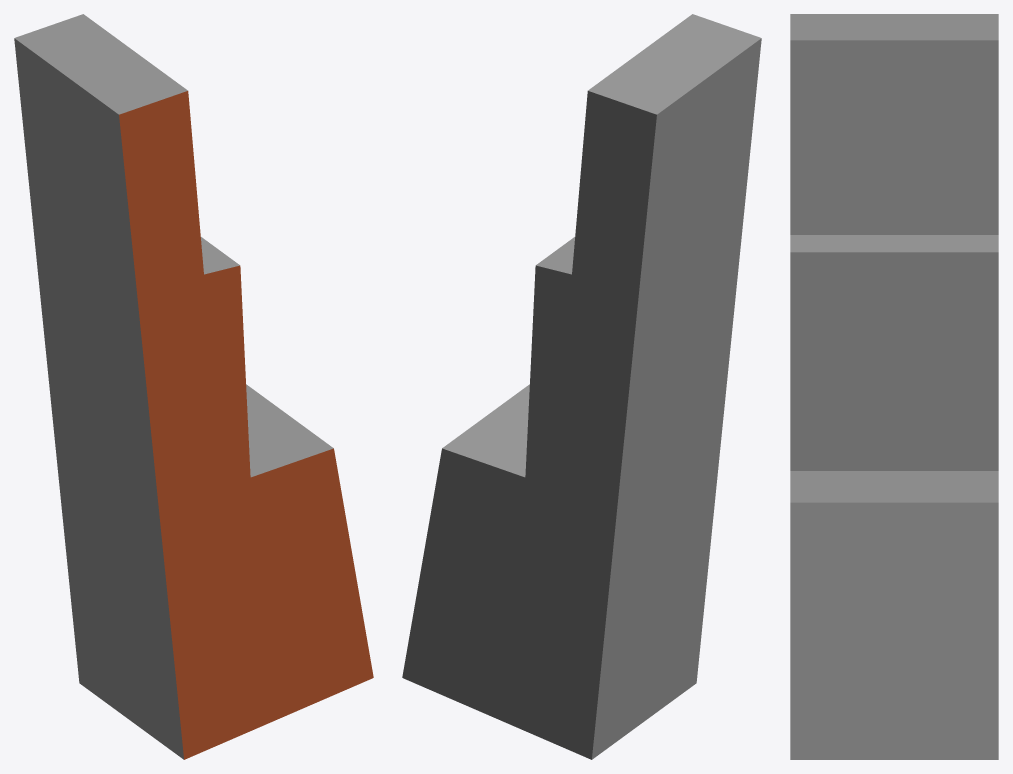
Rendered from construction_6114_assumed_A_Casa_h6m.obj.
3 renders of one model, left to right at view 1: azimuth 30°, elevation 25°; view 2: azimuth 150°, elevation 25°; view 3: azimuth 270°, elevation 25°, orthographic.
Visible parts, largest first — view 1: construction_6114_assumed_A_Casa; view 2: construction_6114_assumed_A_Casa; view 3: construction_6114_assumed_A_Casa.
Boxes of the visible parts, left/top/right/bottom form: construction_6114_assumed_A_Casa: left=14, top=14, right=373, bottom=759; construction_6114_assumed_A_Casa: left=402, top=14, right=761, bottom=759; construction_6114_assumed_A_Casa: left=790, top=14, right=998, bottom=759.
Size of the model in its own units: 8.42 by 21.11 by 6.
